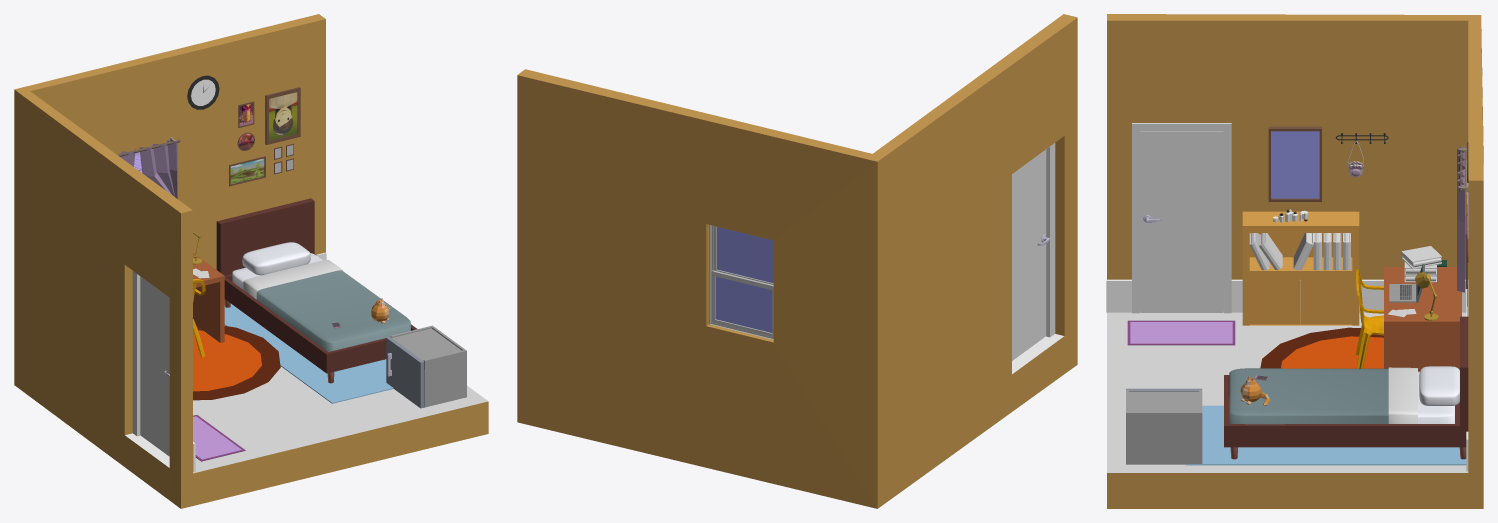
The model's file is Isometric 1.fbx.
The picture shows the model from 3 angles, left to right: view 1: azimuth 30°, elevation 25°; view 2: azimuth 150°, elevation 25°; view 3: azimuth 270°, elevation 25°; orthographic projection. The views are drawn at different scales.
Visible parts, largest first — view 1: Envi, Selimut, Bed.Placer, Circle.carpet, Door, Bed.Carpet, Kulkas, Meja.belajar, Kulkas.pintu.bawah, Plane.001, Plane, Bantal (+4 smaller); view 2: Envi, Door, Window.L, Window.R, DoorFrame; view 3: Envi, Door, Bookshlef, Selimut, Bed.Placer, Meja.belajar, Bed.Carpet, Kulkas, DoorFrame, Cube.007, Circle.carpet, Square.carpet (+9 smaller).
Part boxes in pixels (box(x1,y1,x2,y2)): Envi: box(14, 14, 488, 508); Selimut: box(243, 260, 410, 351); Bed.Placer: box(216, 198, 417, 373); Circle.carpet: box(193, 325, 280, 400); Door: box(140, 276, 169, 456); Bed.Carpet: box(224, 304, 393, 403); Kulkas: box(390, 325, 466, 407); Meja.belajar: box(193, 253, 224, 342); Kulkas.pintu.bawah: box(386, 337, 424, 408); Plane.001: box(265, 87, 300, 144); Plane: box(118, 138, 177, 198); Bantal: box(242, 242, 310, 275); Envi: box(517, 14, 1077, 508); Door: box(1012, 150, 1046, 360); Window.L: box(711, 270, 773, 337); Window.R: box(713, 226, 773, 284); DoorFrame: box(1012, 143, 1055, 337); Envi: box(1107, 14, 1483, 508); Door: box(1140, 131, 1223, 312); Bookshlef: box(1242, 211, 1359, 325); Selimut: box(1229, 367, 1417, 424); Bed.Placer: box(1224, 316, 1468, 447); Meja.belajar: box(1384, 267, 1461, 371); Bed.Carpet: box(1186, 405, 1466, 465); Kulkas: box(1126, 390, 1202, 464); DoorFrame: box(1132, 123, 1231, 313); Cube.007: box(1268, 126, 1321, 201); Circle.carpet: box(1260, 327, 1383, 368); Square.carpet: box(1127, 320, 1235, 345).
Bounding box in the file's own units: 136 × 125 × 130.
